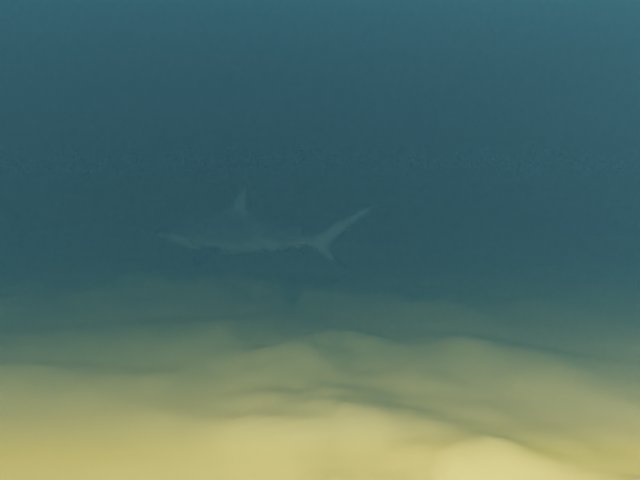Carribean Shark.001: (153, 186, 380, 268)
